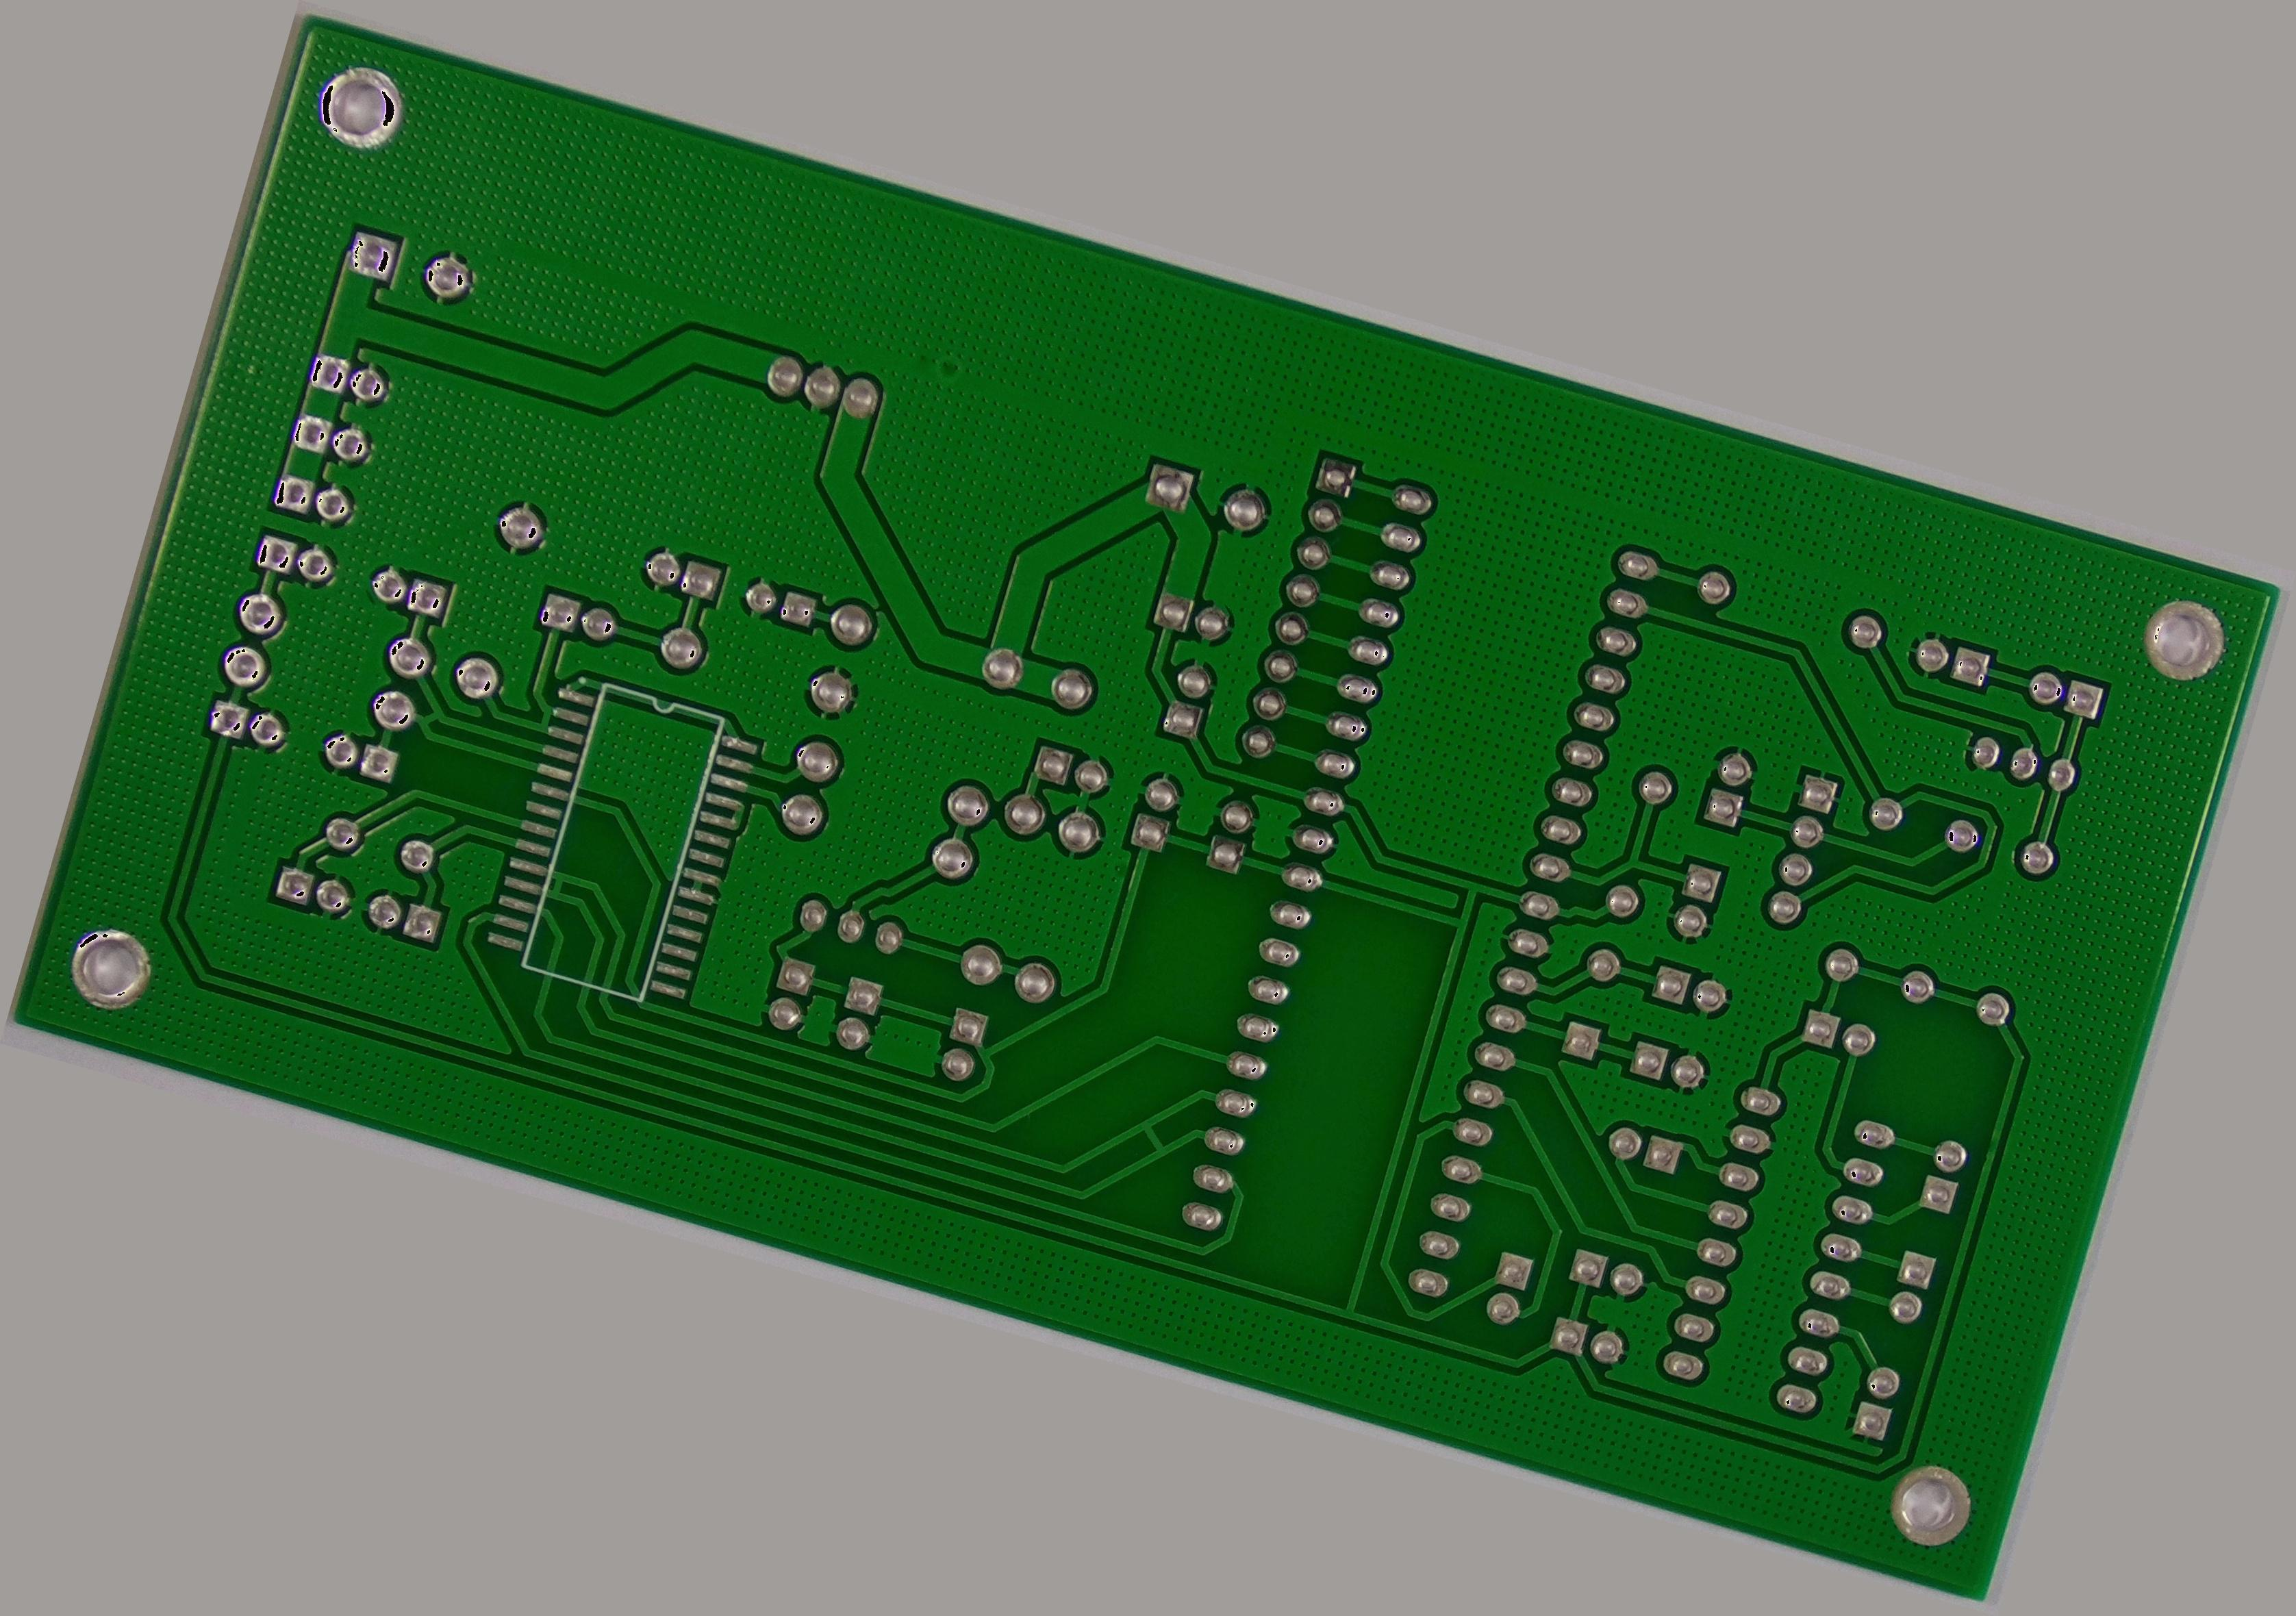short: (1124, 1114, 1184, 1172), (523, 693, 567, 736), (406, 701, 451, 742), (537, 862, 575, 906)
